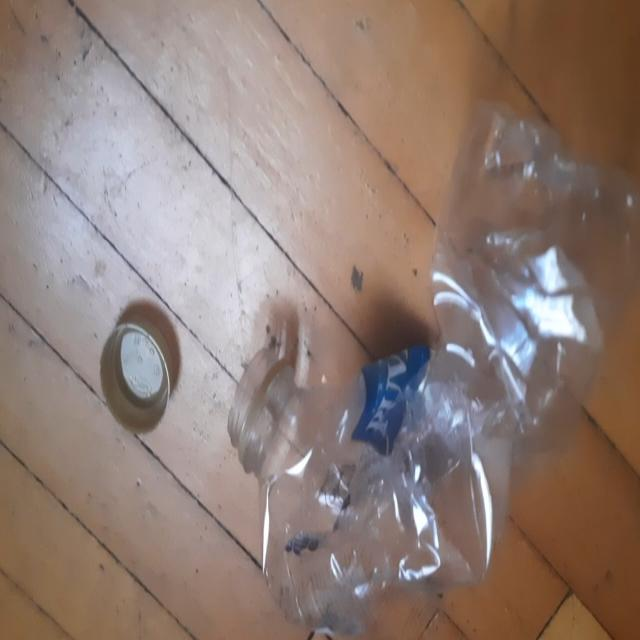Plastic: (231, 99, 637, 636)
